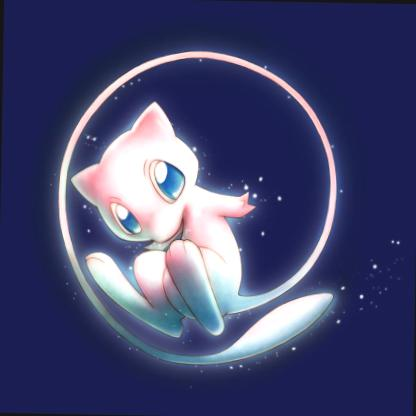Mew: (4, 6, 412, 415)
